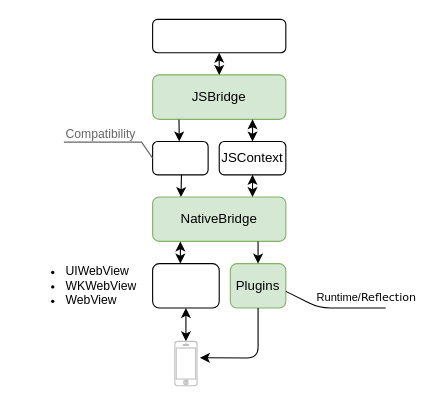
This 448x405 diagram has some shape labels left out. The centre of each missing label's shape, as x and y in pixels:
"iFrame" belongs at (180,157).
"JS" belongs at (219,35).
"WebView" belongs at (185,285).
